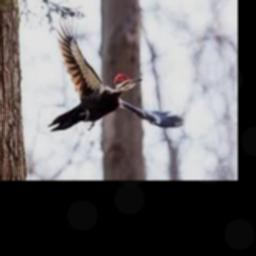Woodpecker: (49, 18, 184, 131)
